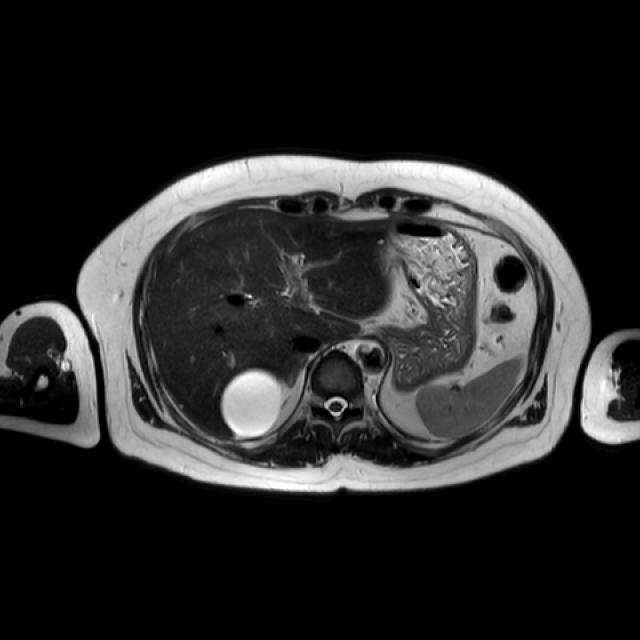sag: (220, 368, 279, 437)
